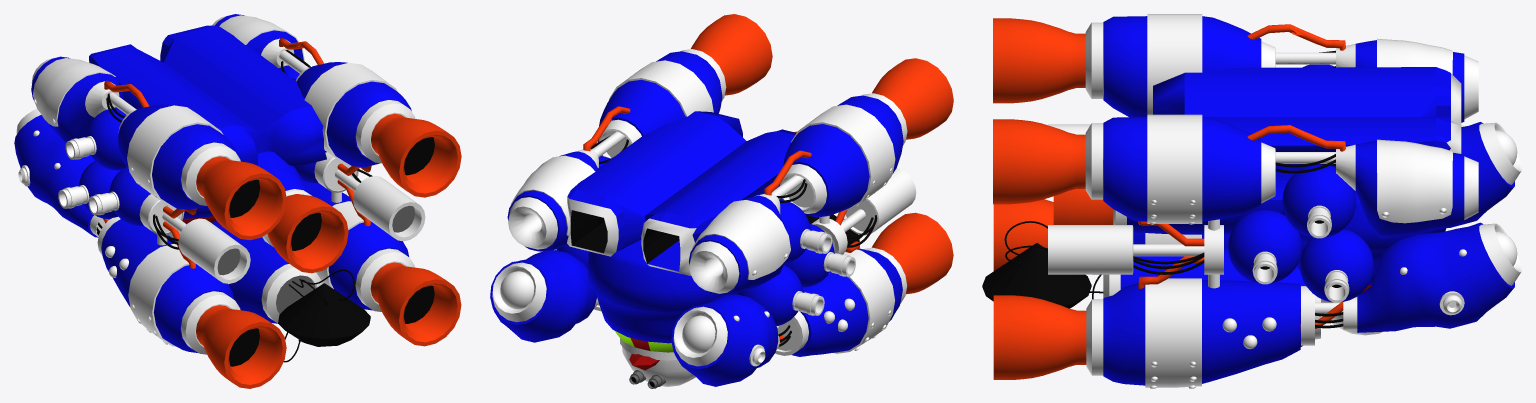
File: Eggman.FBX
3 renders of one model, left to right at view 1: azimuth 30°, elevation 25°; view 2: azimuth 150°, elevation 25°; view 3: azimuth 270°, elevation 25°, orthographic. The views are drawn at different scales.
Parts seen in each view (by area): view 1: Box001, Cylinder011, Cylinder002, Cylinder050, Cylinder066, Cylinder033, Cylinder023, Cylinder059, Cylinder015, Cylinder045, Cylinder016, chr_obj_emerald (+18 smaller); view 2: Box001, Cylinder002, Cylinder048, Cylinder011, Cylinder050, Cylinder015, Cylinder057, Cylinder016, Cylinder023, Cylinder033, Cylinder059, Cylinder056 (+19 smaller); view 3: Box001, Cylinder053, Cylinder050, Cylinder057, Cylinder002, Cylinder056, Cylinder066, Cylinder059, Cylinder023, Gun 006, Cylinder054, Gun 004 (+28 smaller).
Part boxes in pixels (x1,y1,x2,y2): Box001: [89, 25, 326, 166]; Cylinder011: [101, 219, 234, 352]; Cylinder002: [118, 104, 236, 209]; Cylinder050: [297, 62, 411, 167]; Cylinder066: [370, 262, 461, 346]; Cylinder033: [196, 305, 286, 388]; Cylinder023: [196, 156, 286, 240]; Cylinder059: [371, 113, 461, 197]; Cylinder015: [31, 56, 123, 142]; Cylinder045: [267, 194, 348, 273]; Cylinder016: [14, 115, 98, 237]; chr_obj_emerald: [278, 283, 370, 346]; Box001: [567, 111, 796, 275]; Cylinder002: [779, 95, 903, 217]; Cylinder048: [588, 240, 739, 352]; Cylinder011: [792, 248, 902, 356]; Cylinder050: [598, 51, 722, 142]; Cylinder015: [689, 193, 790, 295]; Cylinder057: [490, 250, 596, 342]; Cylinder016: [671, 294, 778, 386]; Cylinder023: [872, 58, 953, 139]; Cylinder033: [871, 212, 953, 294]; Cylinder059: [691, 14, 772, 95]; Cylinder056: [507, 149, 598, 251]; Box001: [1153, 67, 1461, 202]; Cylinder053: [1103, 278, 1300, 387]; Cylinder050: [1103, 114, 1261, 223]; Cylinder057: [1357, 222, 1514, 332]; Cylinder002: [1103, 14, 1261, 117]; Cylinder056: [1336, 139, 1464, 238]; Cylinder066: [993, 295, 1086, 379]; Cylinder059: [993, 119, 1085, 204]; Cylinder023: [993, 18, 1085, 103]; Gun 006: [1228, 210, 1301, 284]; Cylinder054: [1048, 225, 1133, 274]; Gun 004: [1300, 229, 1373, 302].
Bounding box in the file's own units: 134 × 112 × 197.
